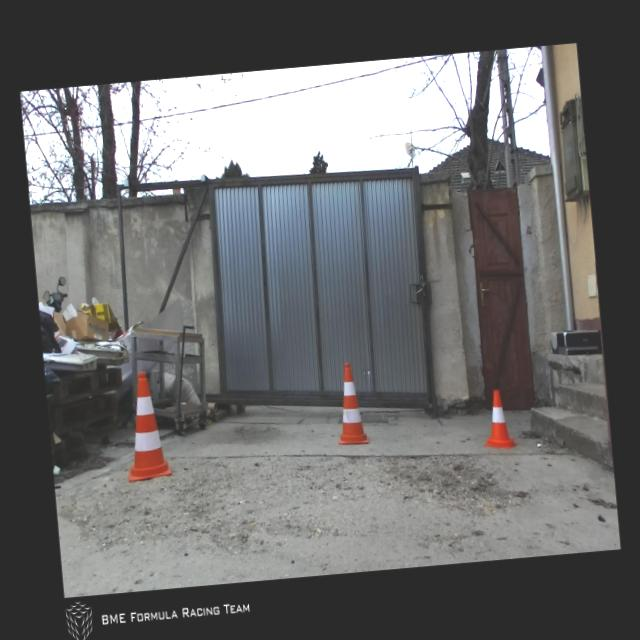large_orange_cone: (118, 370, 172, 480), (332, 362, 368, 444)
orange_cone: (479, 388, 519, 451)
